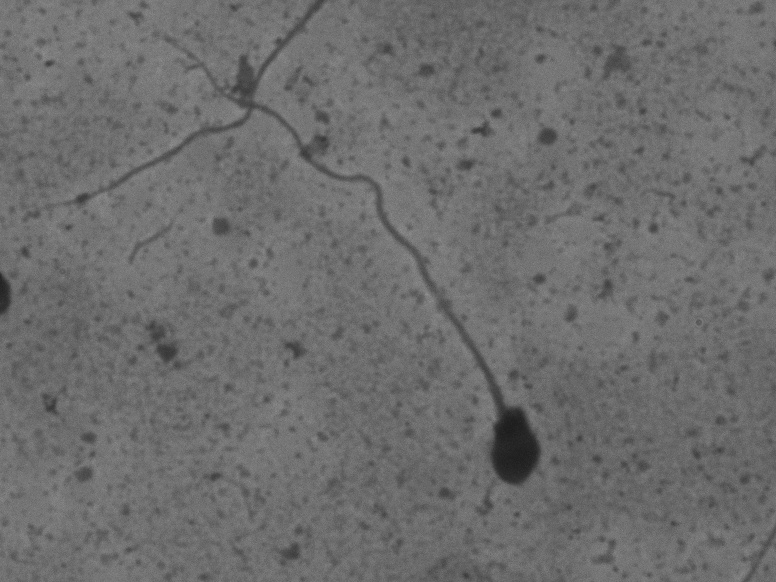Abnormal: (148, 24, 557, 511)
